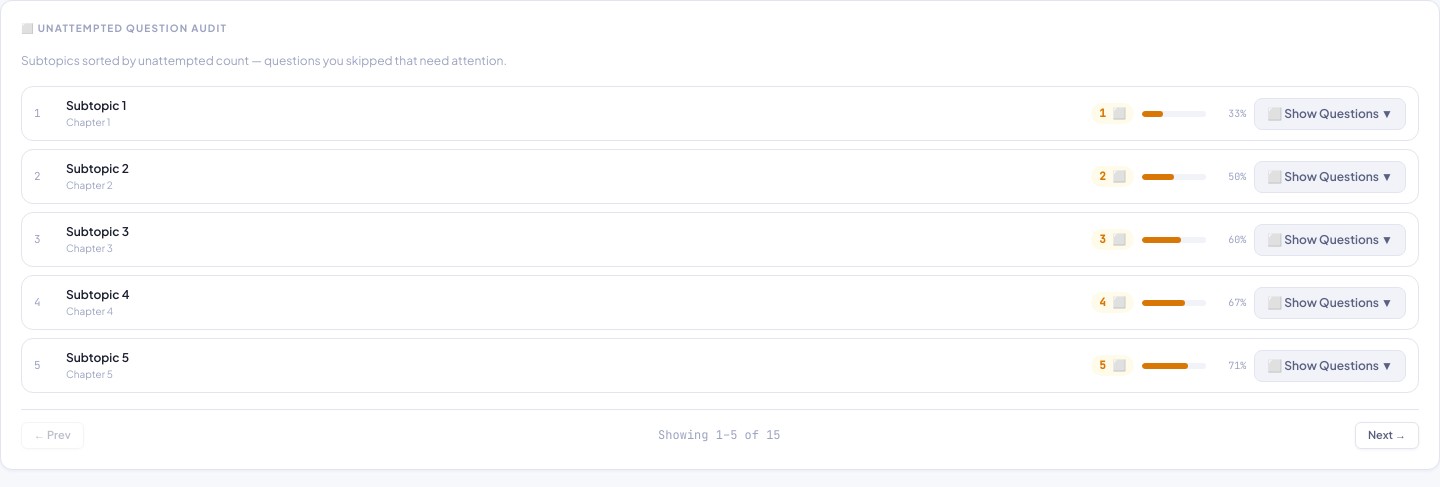
it: UnattemptedAudit — pagination with 15 items › Prev is enabled on page 2
The image size is (1440, 487).
Click the button "Next →": (1387,435) [1355,422,1419,448]
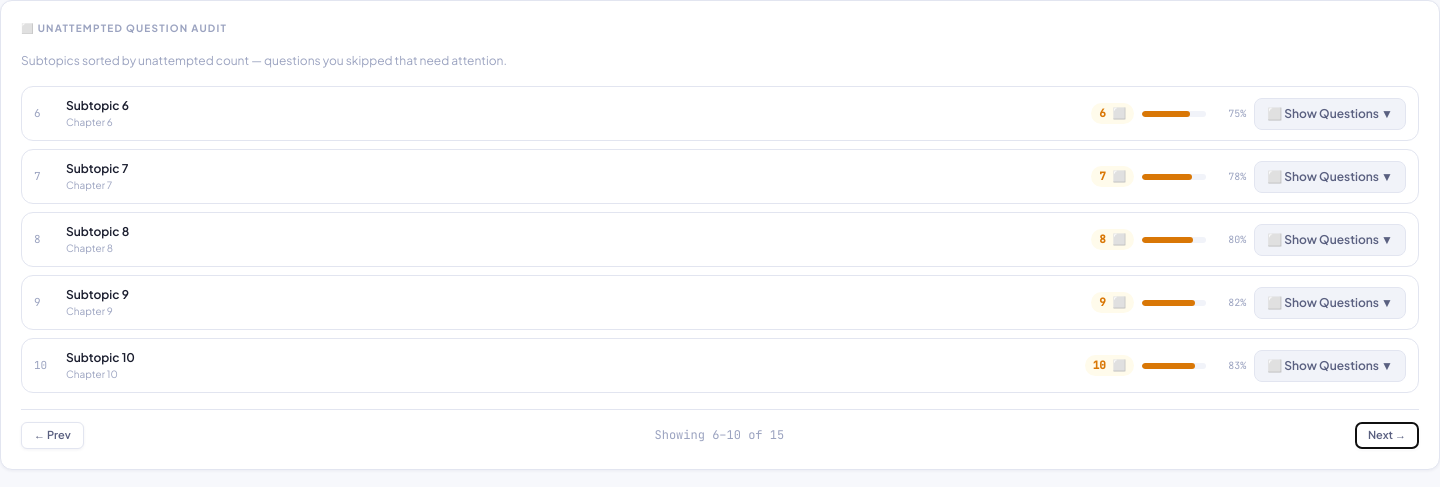
expect the button "← Prev" is enabled: met, box [21,422,84,448]
